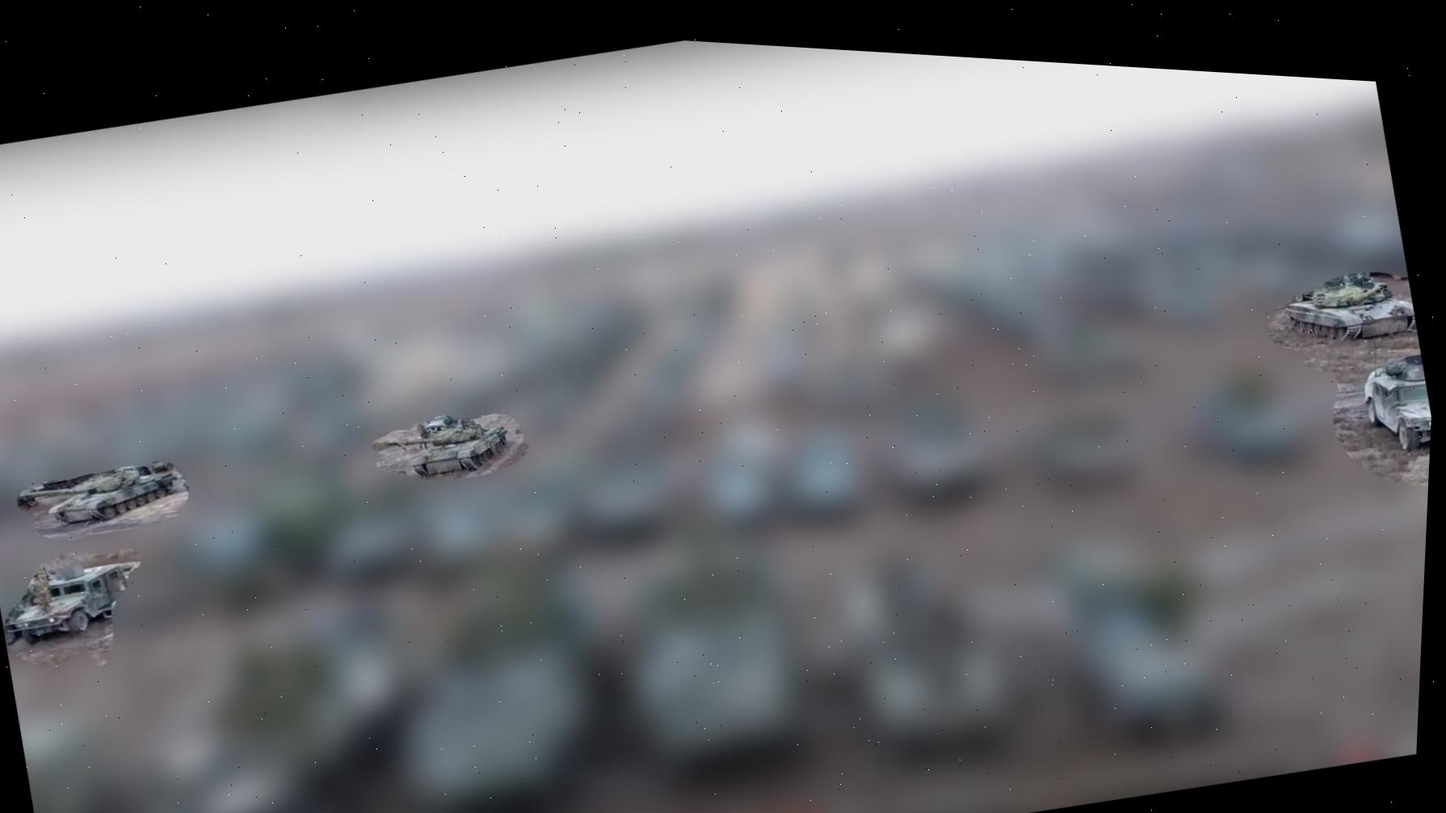armored_car: (0, 543, 148, 656), (1347, 348, 1434, 497)
tank: (7, 445, 198, 558), (363, 395, 521, 500), (1274, 262, 1421, 363)
